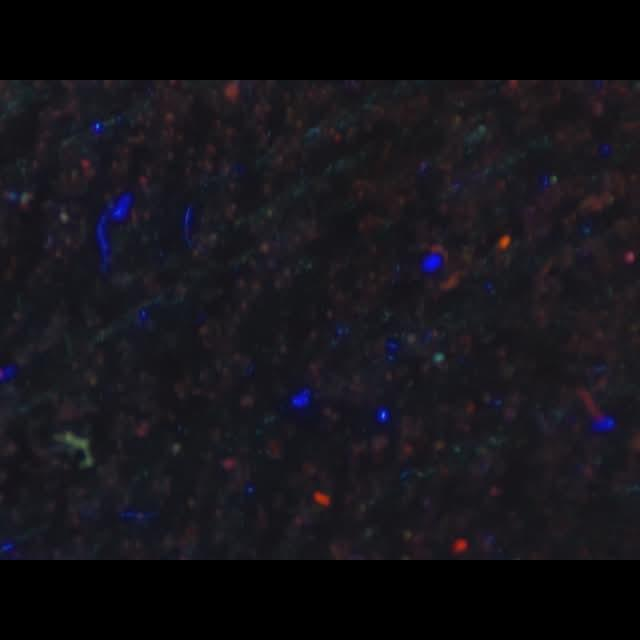Fibre: (56, 432, 96, 468)
